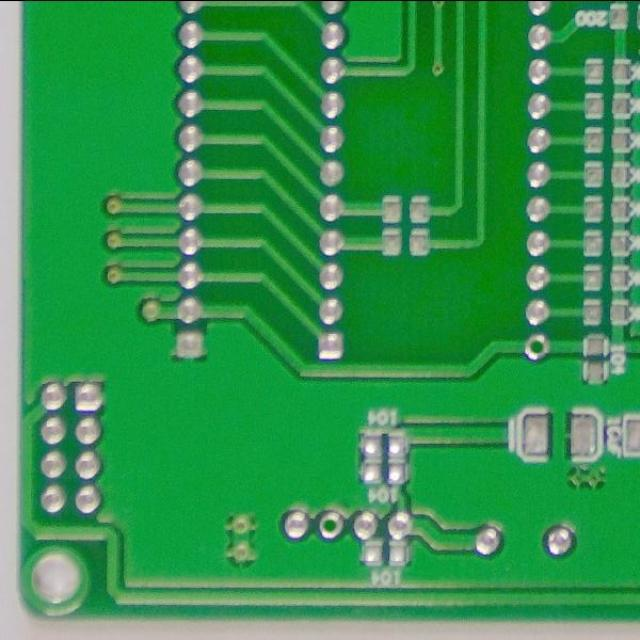Missing_Hole: (314, 510, 348, 543), (520, 330, 554, 362)
